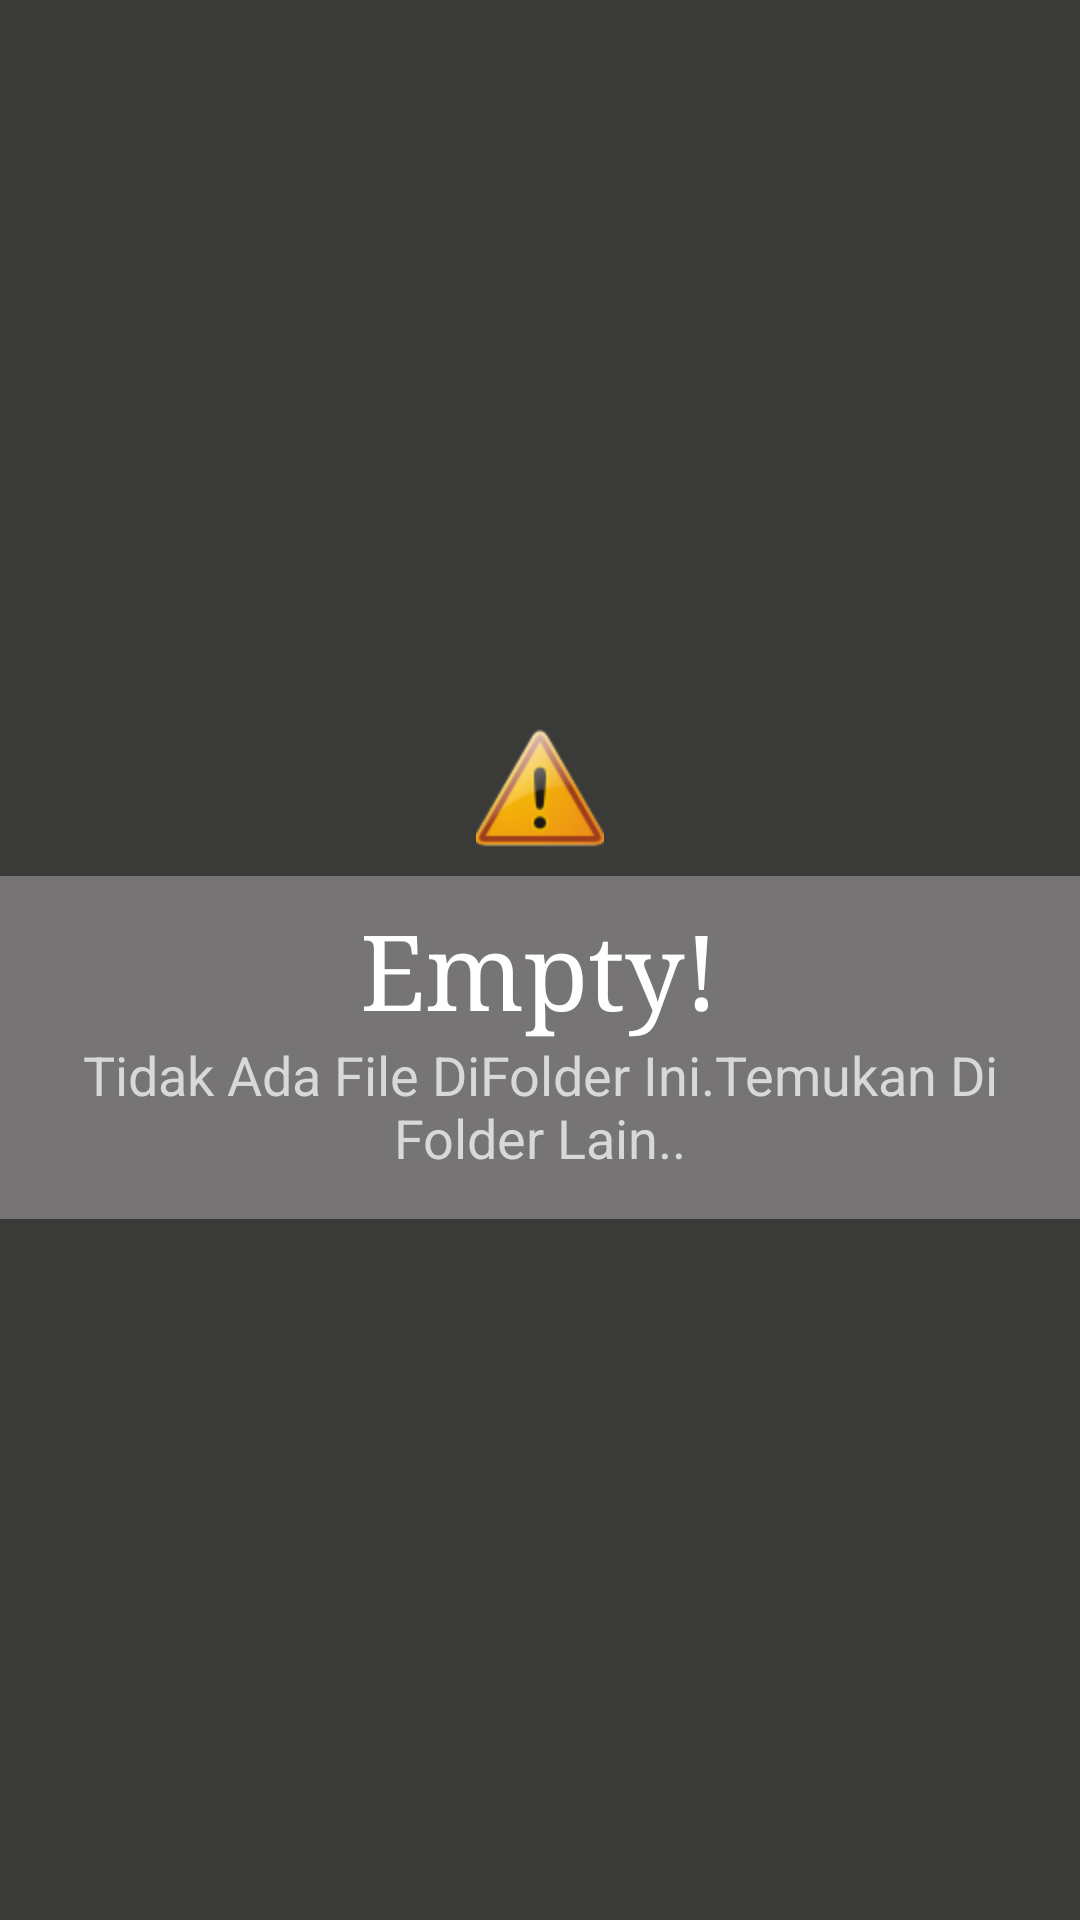

Icons on this 1080px×1920px Android screen, each with the point to tap as (x,y):
warning: (540,788)
